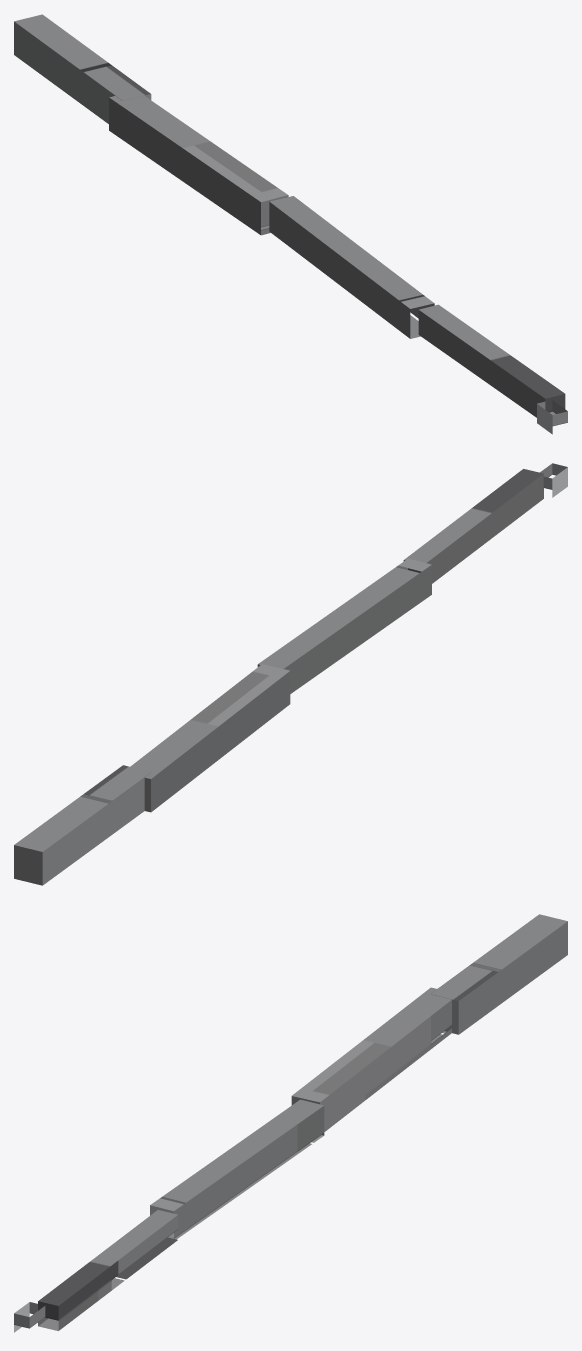
The picture shows the model from 3 angles, top to bottom: view 1: azimuth 30°, elevation 25°; view 2: azimuth 150°, elevation 25°; view 3: azimuth 330°, elevation 25°; orthographic projection.
Size of the model in its own units: 0.1103 by 0.0828 by 2.37.
